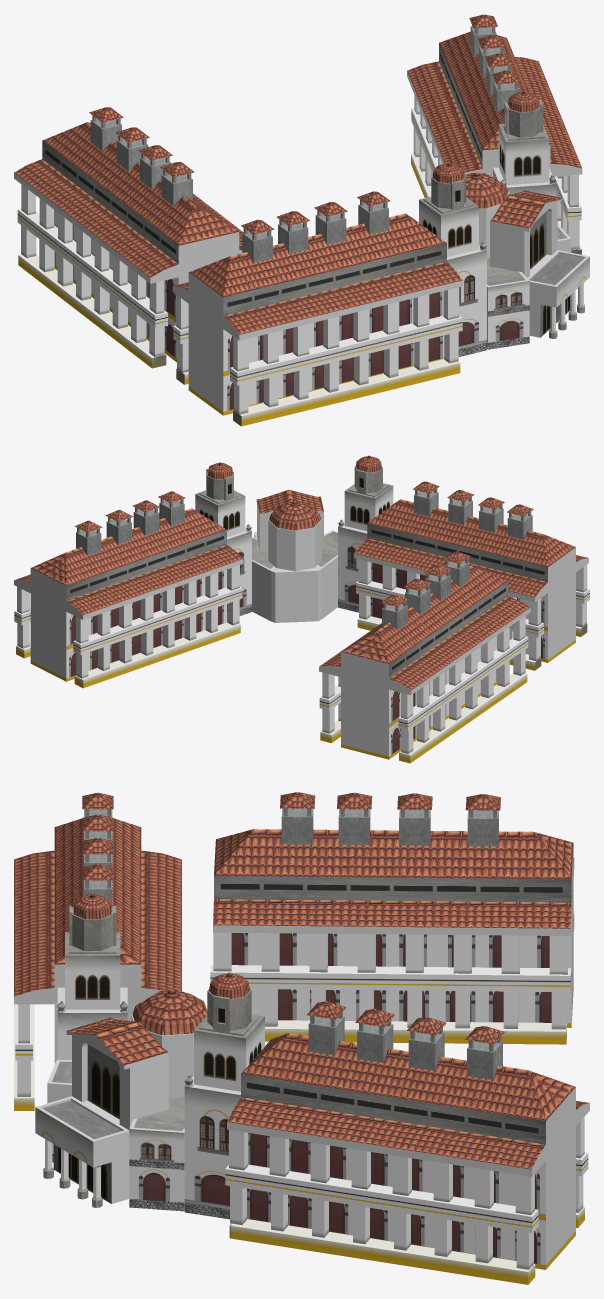
Rendered from lawang_sewu_3d.glb.
3 renders of one model, top to bottom at view 1: azimuth 30°, elevation 25°; view 2: azimuth 150°, elevation 25°; view 3: azimuth 270°, elevation 25°, orthographic. The views are drawn at different scales.
Parts seen in each view (by area): view 1: Cube.004, Cube.018, Cube.005, Cube.020, Cube.011, Cube.001, Cube, Cube.002, Cube.010, Cylinder.005, Cube.016, Cylinder.001 (+16 smaller); view 2: Cube.011, Cube.018, Cube.004, Cube.016, Cube.020, Cube.002, Cube, Cylinder.005, Cube.003, Cube.010, Cube.001, Cube.019 (+16 smaller); view 3: Cube.018, Cube.011, Cube.017, Cube.004, Cube.019, Cube.001, Cube.010, Cube.002, Cube, Cylinder.005, Cylinder, Cylinder.001 (+15 smaller).
Part boxes in pixels (x1,y1,x2,y2): Cube.004: (172,213,462,415); Cube.018: (14,122,243,362); Cube.005: (230,287,462,426); Cube.020: (17,184,167,368); Cube.011: (407,31,582,176); Cube.001: (490,190,589,337); Cube: (419,196,486,356); Cube.002: (487,223,571,349); Cube.010: (493,123,555,196); Cylinder.005: (465,172,508,258); Cube.016: (411,95,442,197); Cylinder.001: (504,91,543,137); Cube.011: (14,508,243,681); Cube.018: (319,565,530,759); Cube.004: (354,499,588,662); Cube.016: (73,565,242,688); Cube.020: (398,616,528,763); Cube.002: (252,530,337,622); Cube: (338,483,393,612); Cylinder.005: (268,501,321,571); Cube.003: (356,559,543,670); Cube.010: (195,490,251,620); Cube.001: (254,489,323,550); Cube.019: (319,672,340,743); Cube.018: (213,829,574,1027); Cube.011: (227,1033,589,1269); Cube.017: (225,1130,538,1284); Cube.004: (14,818,181,1064); Cube.019: (210,932,571,1044); Cube.001: (35,1017,168,1203); Cube.010: (184,1014,264,1219); Cube.002: (47,1060,184,1211); Cube: (57,932,127,1059); Cylinder.005: (131,989,207,1098); Cylinder: (69,892,116,950); Cylinder.001: (207,972,251,1032).
Size of the model in its own units: 26.76 by 9.14 by 20.66.
Materials: 17 (16 with a texture image).
